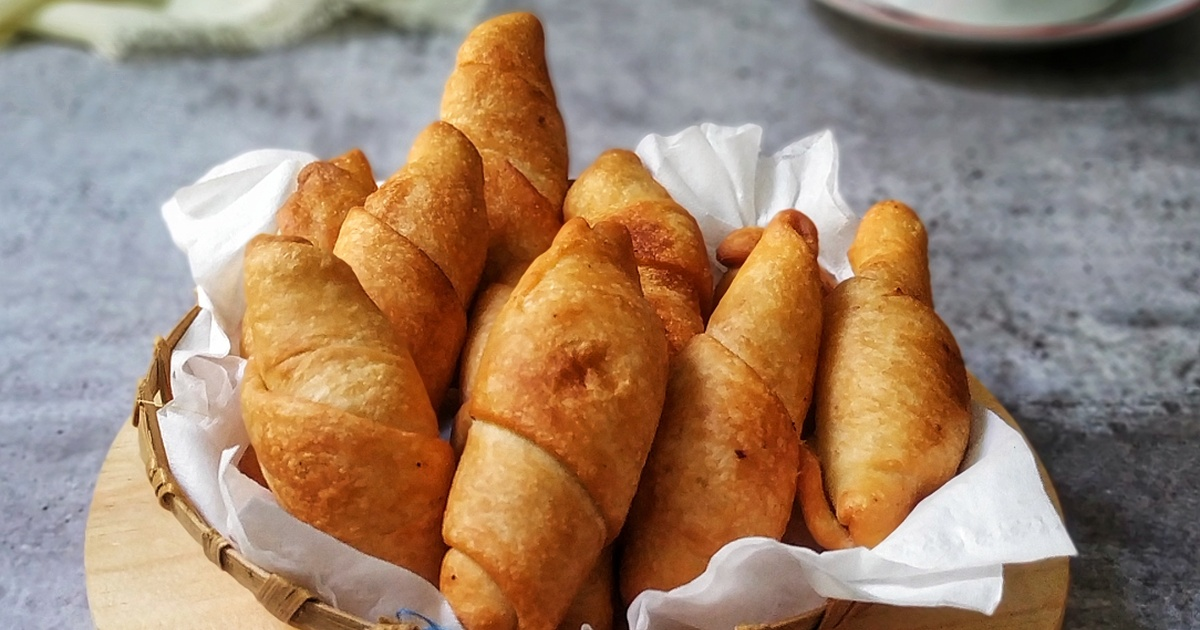pisang_molen: (441, 218, 671, 626), (621, 205, 820, 601), (239, 232, 441, 574), (809, 203, 971, 552)
